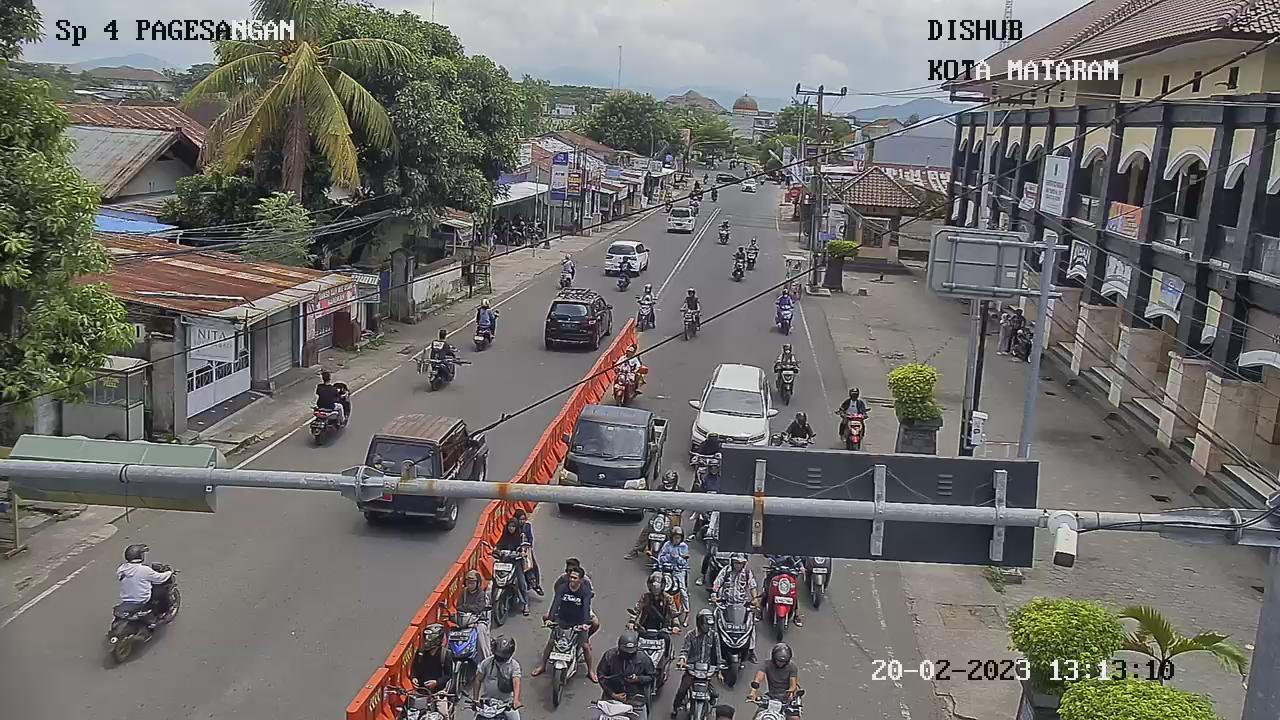car: (353, 400, 495, 531), (554, 398, 675, 520), (689, 354, 776, 459), (543, 281, 611, 351), (600, 237, 650, 280), (662, 203, 698, 237)
motorbike: (704, 586, 766, 688), (538, 613, 597, 708), (435, 598, 494, 687), (475, 538, 534, 625), (622, 603, 679, 692), (758, 555, 807, 642), (643, 546, 694, 624), (670, 660, 733, 720), (637, 500, 680, 556), (795, 555, 836, 610), (834, 405, 873, 454), (772, 359, 804, 404), (609, 362, 637, 408), (632, 295, 657, 334), (1012, 323, 1036, 363), (676, 306, 700, 343), (773, 300, 796, 338), (729, 253, 747, 282), (743, 248, 759, 272), (716, 226, 732, 247)
person: (744, 639, 807, 710), (595, 630, 656, 703), (471, 630, 524, 705), (629, 567, 683, 635), (674, 606, 726, 672), (409, 620, 454, 694), (710, 550, 759, 611), (548, 556, 593, 622), (114, 537, 157, 604), (490, 507, 533, 558), (450, 569, 490, 621), (653, 522, 690, 573), (612, 337, 644, 376), (783, 410, 818, 445), (313, 367, 342, 409), (837, 381, 867, 420), (691, 428, 720, 465), (775, 340, 802, 376), (428, 326, 452, 361), (472, 297, 495, 332), (680, 286, 701, 312), (636, 282, 657, 305), (775, 287, 794, 310), (559, 250, 575, 274), (618, 253, 632, 277), (732, 242, 748, 262), (744, 236, 760, 255), (718, 217, 731, 233)
